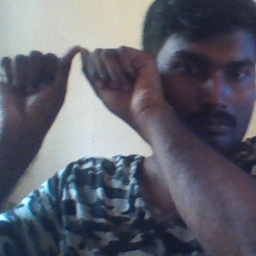A: (1, 43, 159, 131)
